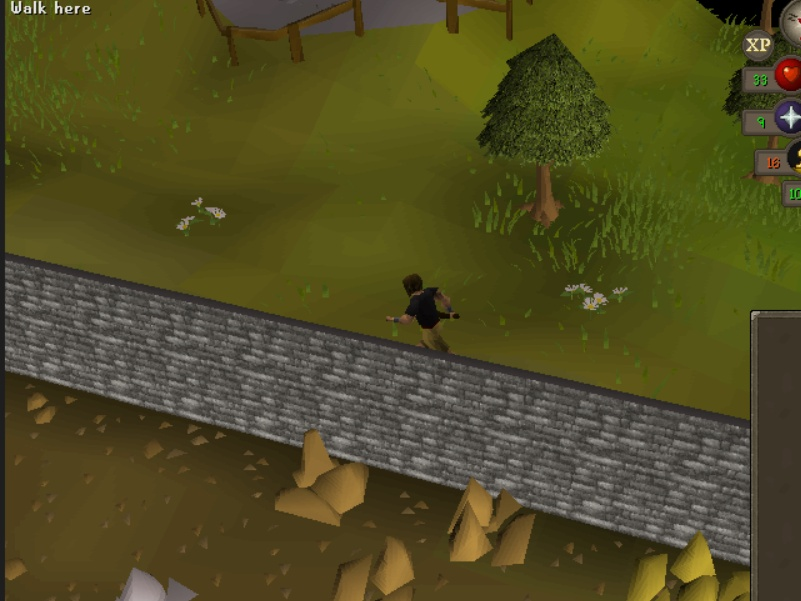clay: (269, 417, 384, 526), (438, 464, 553, 573), (325, 530, 430, 601)
gold: (614, 525, 722, 601)
